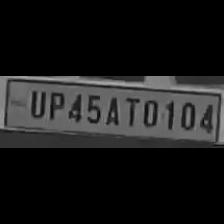0: (140, 95, 160, 129), (176, 98, 196, 132)
1: (161, 97, 177, 131)
4: (65, 90, 83, 124), (198, 100, 216, 132)
5: (82, 91, 102, 125)
A: (102, 93, 120, 127)
P: (44, 88, 64, 122)
T: (121, 93, 139, 126)
U: (24, 88, 46, 120)
